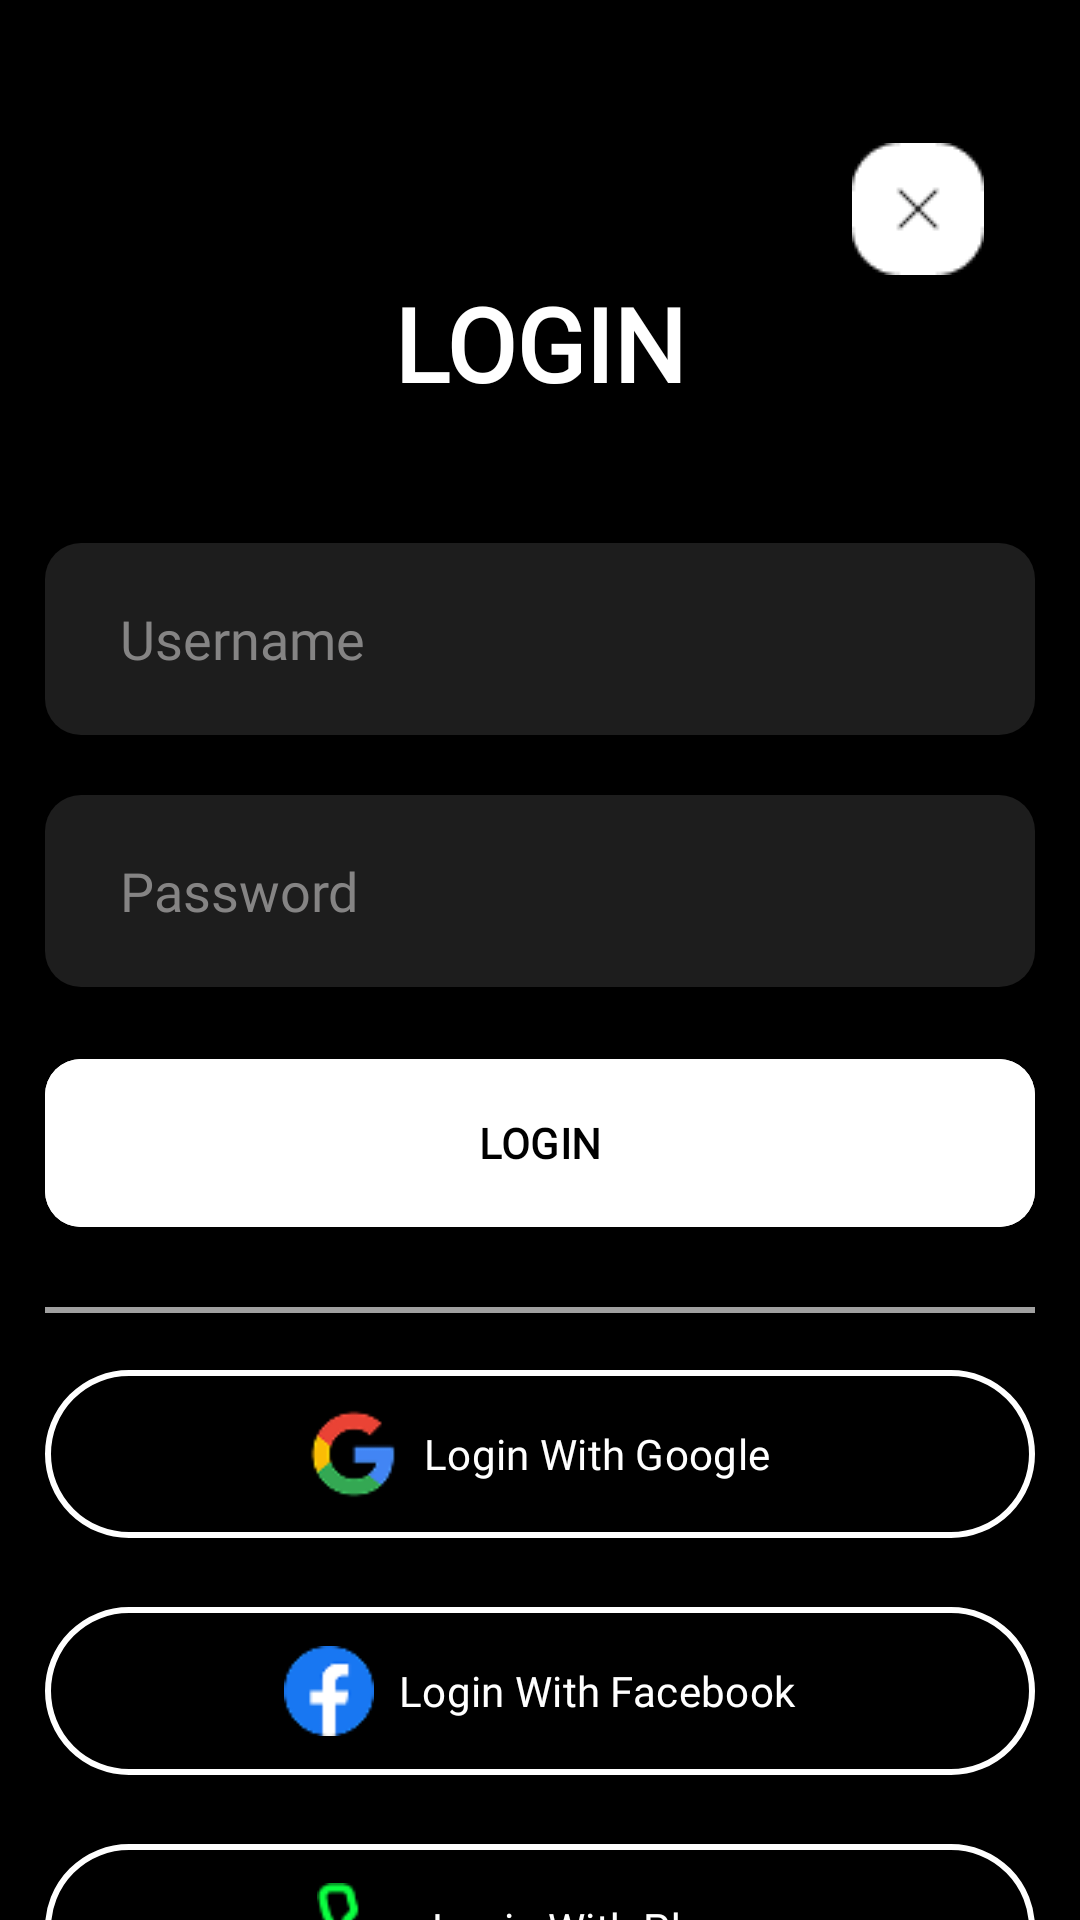

Icon bounding boxes for this 1080 x 1920 phone screenshot, format {"left": x1, "top": y1, "right": x2, "bottom": y2}:
close: {"left": 852, "top": 143, "right": 984, "bottom": 275}
